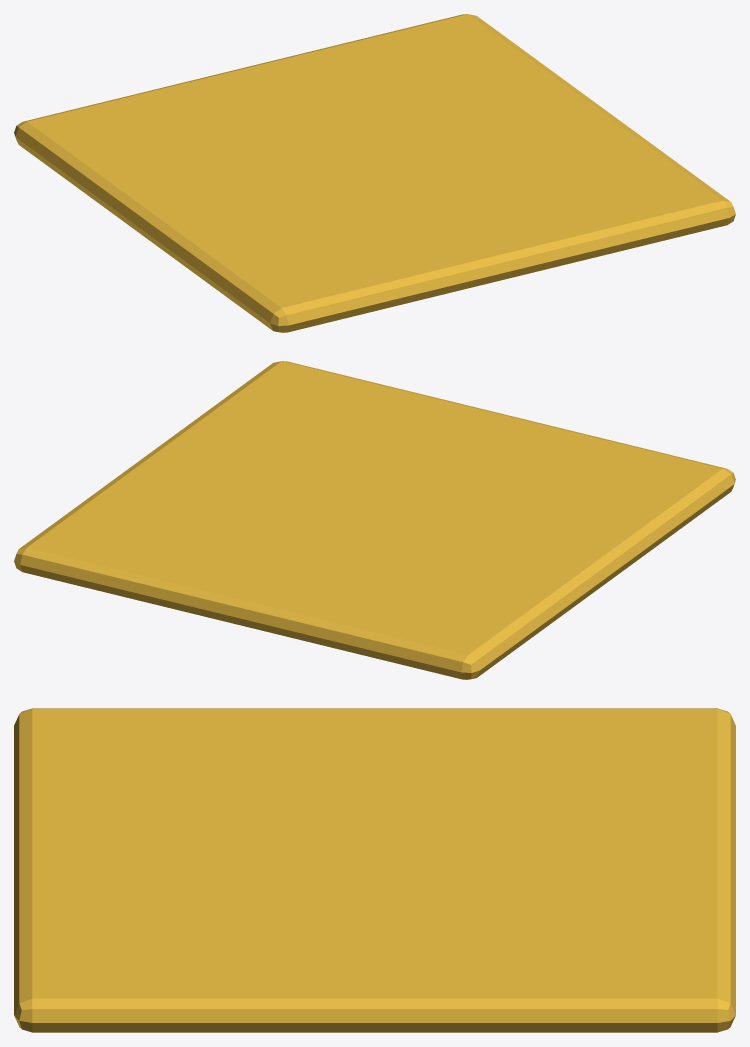
File: cheese-slice.glb
3 views of the same model, one above another, from view 1: azimuth 30°, elevation 25°; view 2: azimuth 150°, elevation 25°; view 3: azimuth 270°, elevation 25° (orthographic). The views are drawn at different scales.
Visible parts, largest first — view 1: edible_cheese; view 2: edible_cheese; view 3: edible_cheese.
Part boxes in pixels (x1=…): edible_cheese: x1=14, y1=14, x2=735, y2=332; edible_cheese: x1=14, y1=361, x2=735, y2=679; edible_cheese: x1=14, y1=708, x2=735, y2=1032.
Bounding box in the file's own units: 0.157 × 0.008 × 0.157.
